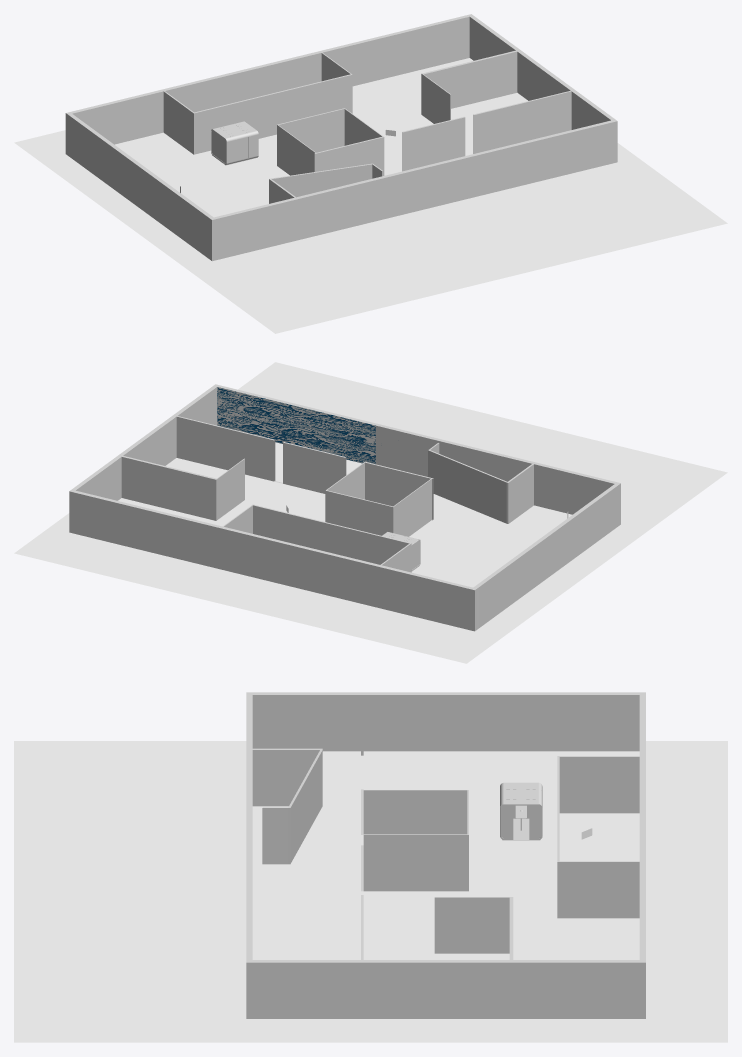
Rendered from TheFifth_v9.glb.
3 views of the same model, one above another, from view 1: azimuth 30°, elevation 25°; view 2: azimuth 150°, elevation 25°; view 3: azimuth 270°, elevation 25° (orthographic). The views are drawn at different scales.
Visible parts, largest first — view 1: WestWall, Plane, Cube1; view 2: WestWall, Plane; view 3: Plane, WestWall, Cube1.
Part boxes in pixels (bbox=[...]): WestWall: bbox=[65, 14, 617, 261]; Plane: bbox=[14, 58, 727, 333]; Cube1: bbox=[211, 121, 258, 165]; WestWall: bbox=[69, 384, 620, 631]; Plane: bbox=[14, 362, 727, 663]; Plane: bbox=[14, 741, 727, 1042]; WestWall: bbox=[246, 692, 645, 1018]; Cube1: bbox=[500, 782, 542, 840].
Size of the model in its own units: 39.53 by 3.99 by 39.53.
4 materials, 1 textured.
